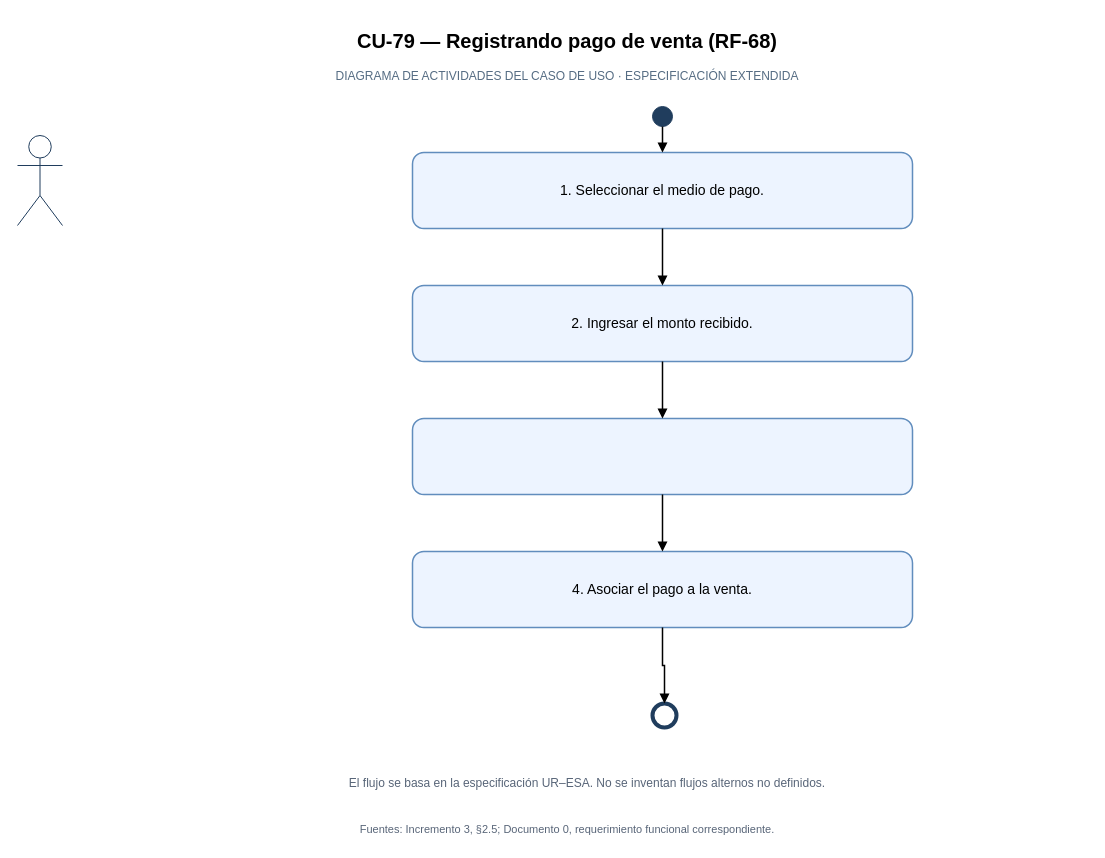
Image size: 1105x858. Some labels were removed from this diagram. Here are the shapes that lost their labels. From the top down, the box of each, then its label:
(16, 134, 62, 226): Cajero
(411, 417, 913, 495): 3. Calcular y mostrar el vuelto si el pago es en efectivo.
